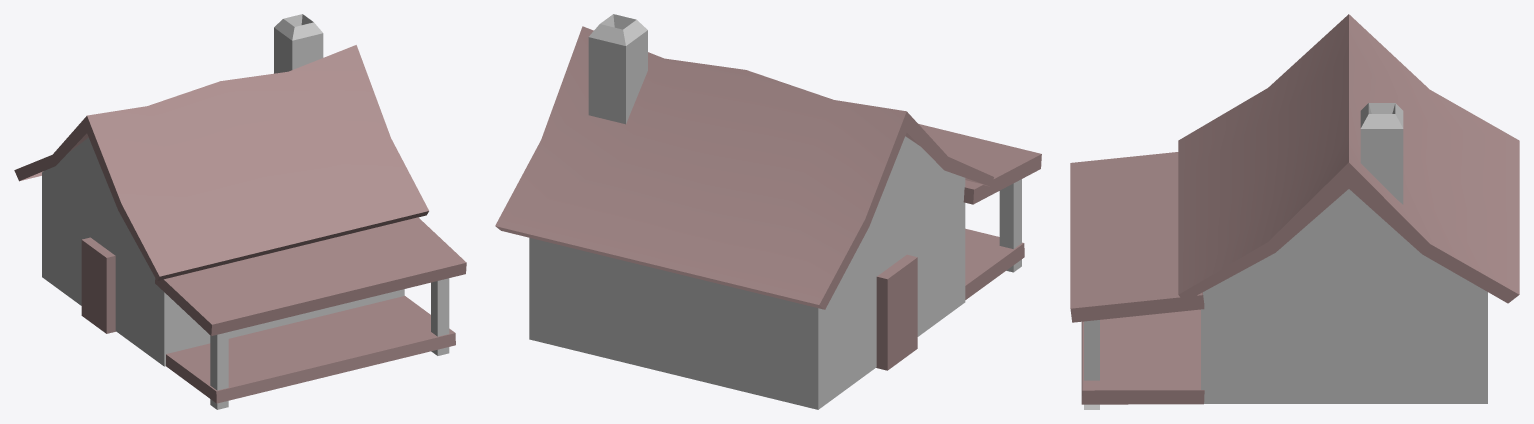
The model's file is Farm_Geo.fbx.
3 views of the same model, side by side, from view 1: azimuth 30°, elevation 25°; view 2: azimuth 150°, elevation 25°; view 3: azimuth 270°, elevation 25° (orthographic). The views are drawn at different scales.
Visible parts, largest first — view 1: Farm_Geo; view 2: Farm_Geo; view 3: Farm_Geo.
Part boxes in pixels (x1,y1,x2,y2): Farm_Geo: (14,14,466,409); Farm_Geo: (495,14,1041,409); Farm_Geo: (1070,14,1519,409).
Bounding box in the file's own units: 3.55 × 3.09 × 4.37.
